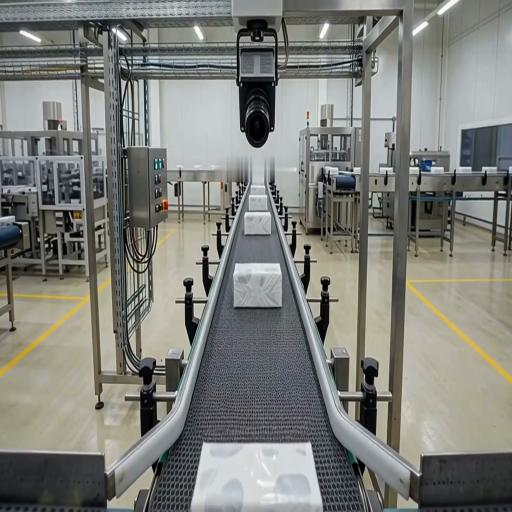good: (191, 443, 322, 511), (234, 264, 281, 308), (244, 212, 271, 235), (249, 195, 267, 210), (251, 185, 265, 194)
